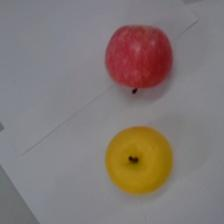red: (105, 24, 171, 94)
yellow: (105, 126, 173, 194)
